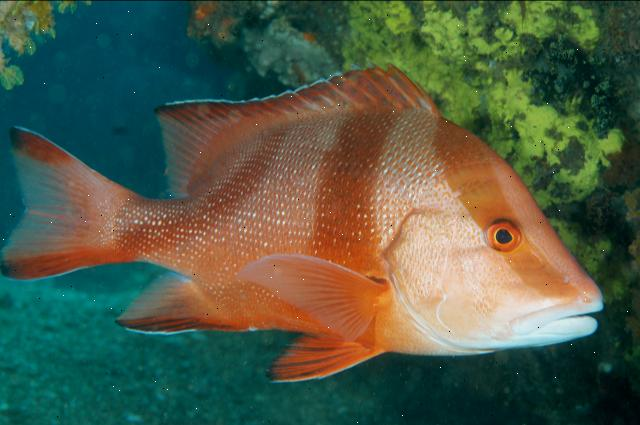Mulut: (465, 271, 627, 367)
Sirip Anal: (110, 261, 248, 345)
Sirip Dada: (224, 232, 392, 348)
Sirip Ekor: (2, 99, 132, 309)
Sirip Perut: (250, 326, 398, 392)
Sirip Punggung: (146, 56, 440, 202)
